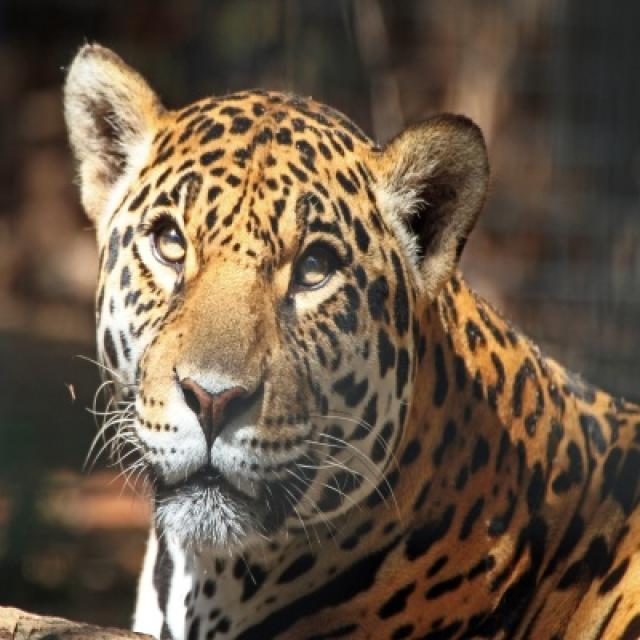Jaguar: (61, 43, 638, 638)
